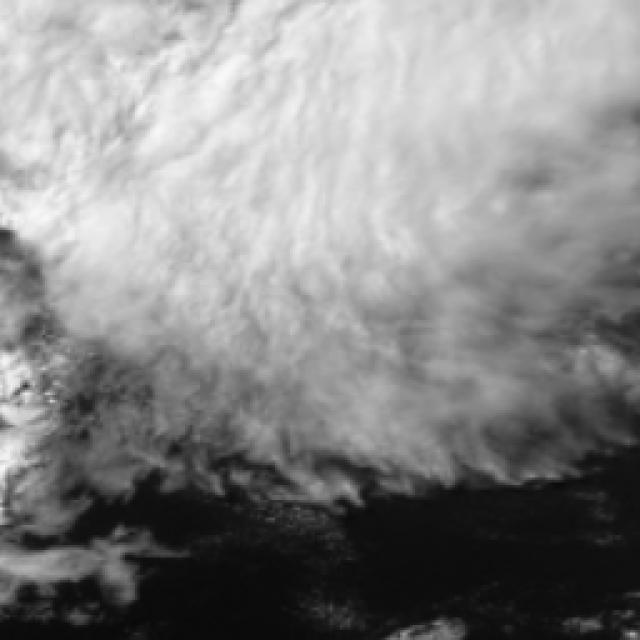CB: (0, 0, 608, 210), (75, 217, 518, 330)
